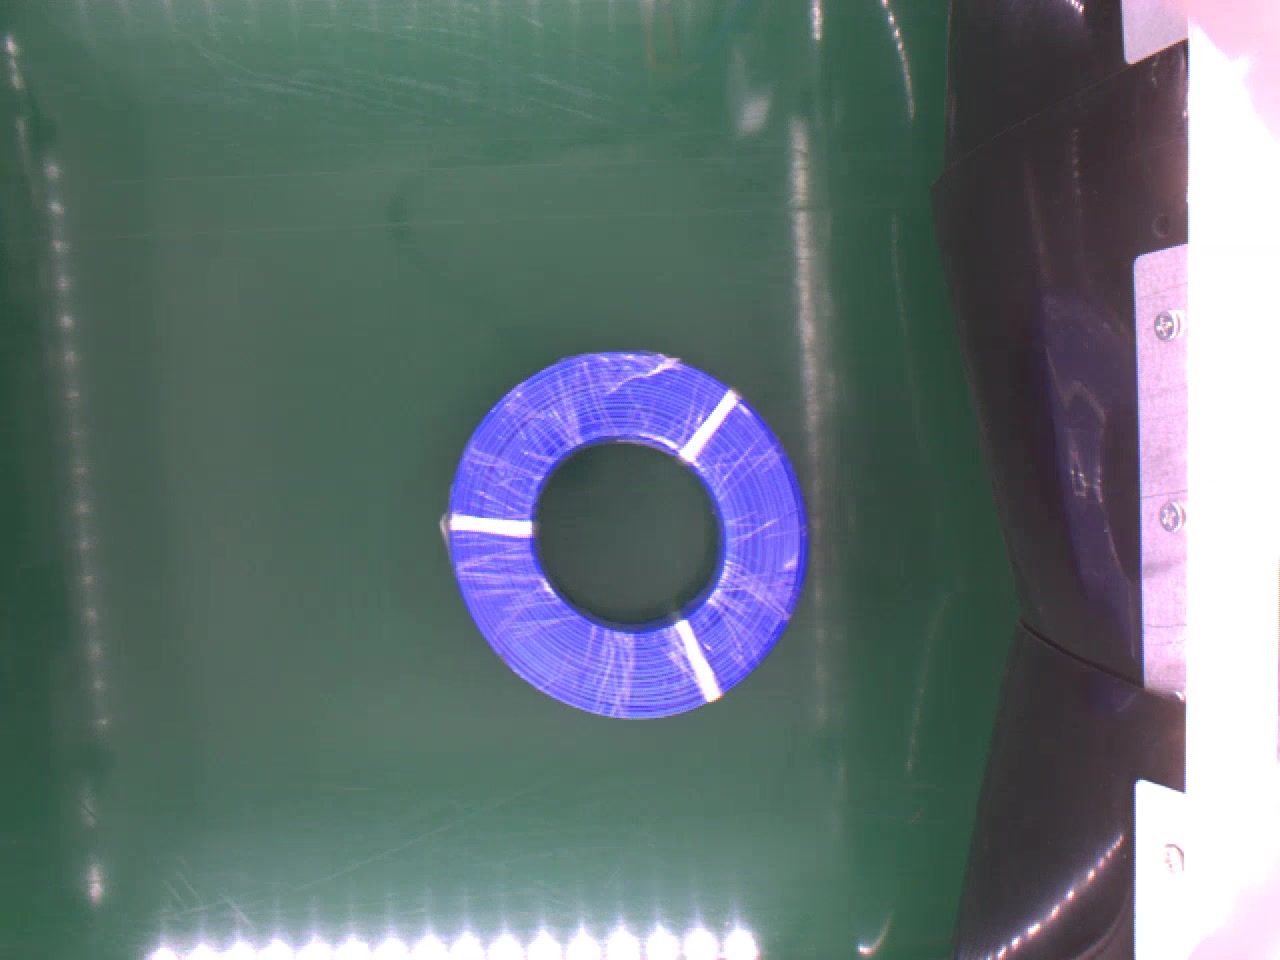blue: (439, 351, 815, 716)
